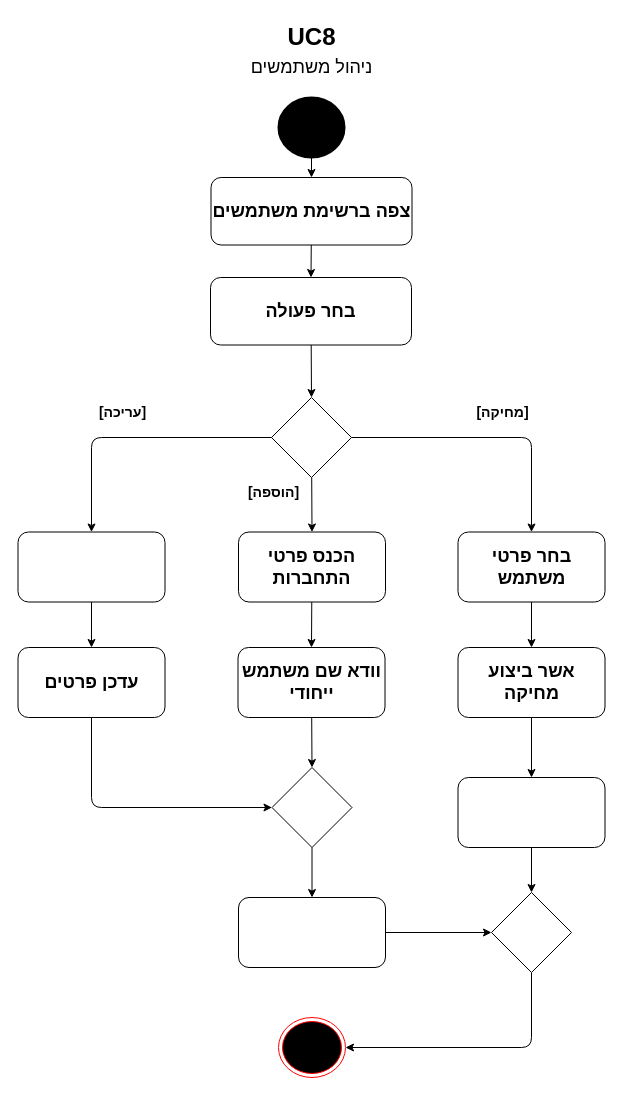
Image size: 622x1095. Some labels were removed from this diagram. The shapes that lost their labels are listed below. From the top down, each one's box as (x1, y1, x2, y2) in pixels, then its label:
(17, 531, 165, 602): בחר משתמש
(457, 776, 605, 848): מחק משתמש מהמאגר
(238, 896, 386, 968): שמור משתמש למאגר
